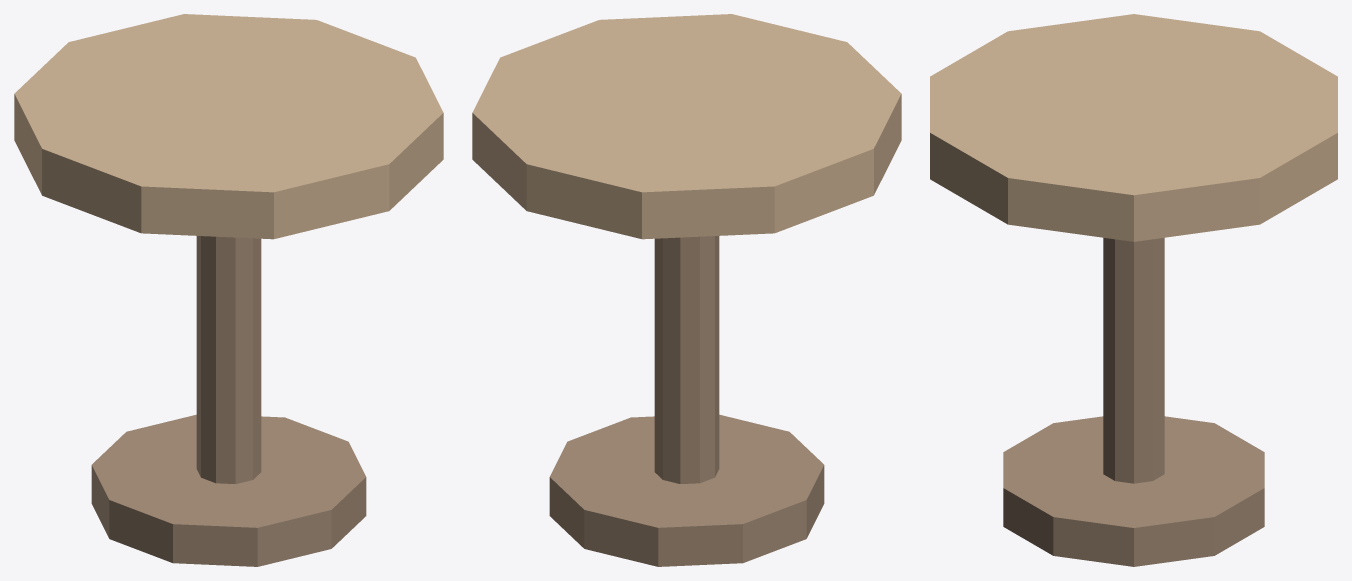
Rendered from side-table.glb.
3 renders of one model, left to right at view 1: azimuth 30°, elevation 25°; view 2: azimuth 150°, elevation 25°; view 3: azimuth 270°, elevation 25°, orthographic.
Parts seen in each view (by area): view 1: Round Side Table; view 2: Round Side Table; view 3: Round Side Table.
Part boxes in pixels (x1=…): Round Side Table: x1=14, y1=14, x2=443, y2=566; Round Side Table: x1=472, y1=14, x2=901, y2=566; Round Side Table: x1=930, y1=14, x2=1337, y2=566.
Size of the model in its own units: 0.5 by 0.52 by 0.4755.
